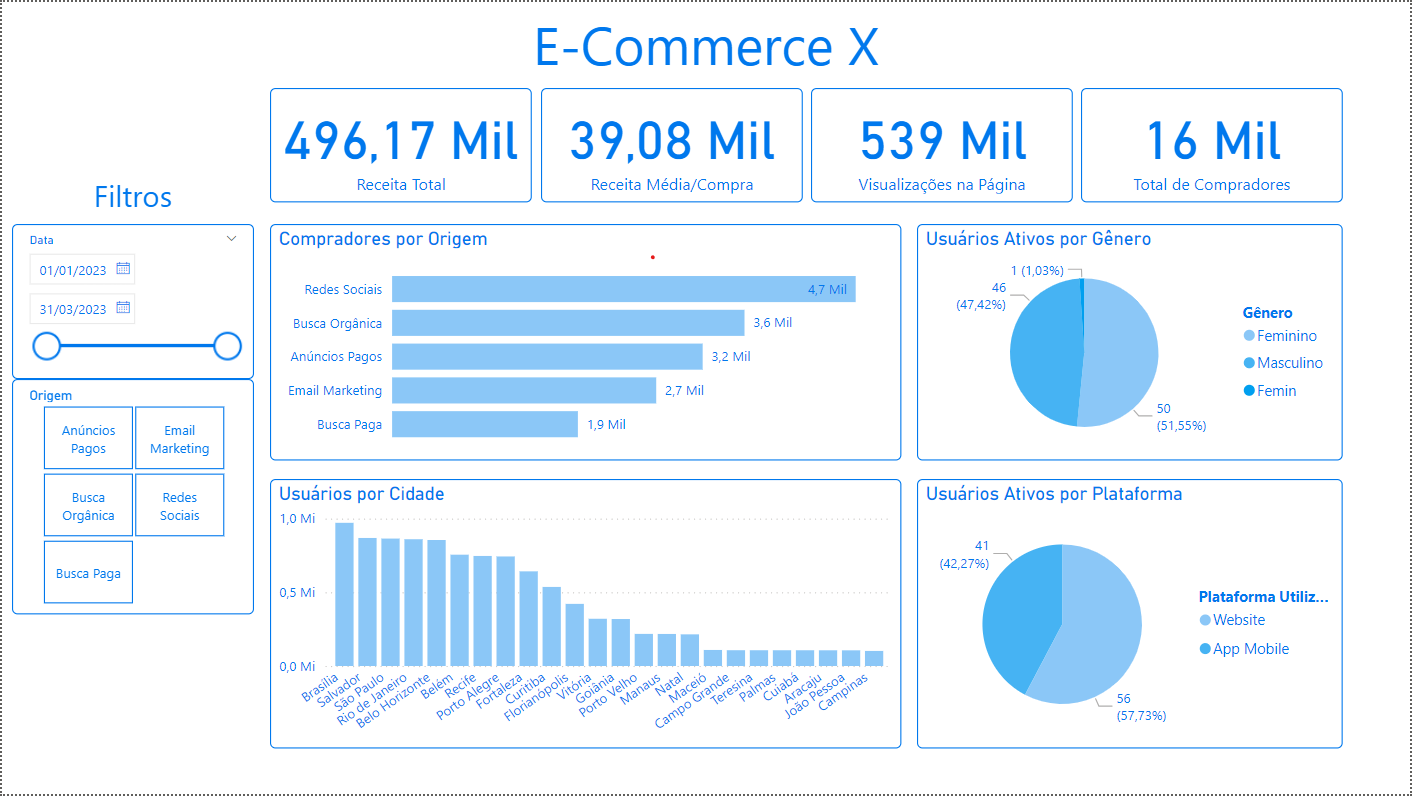

Layout of this report page (visuals, bound fields, positions):
{"tool":"powerbi","page":{"name":"Ecommerce X","canvas":[1280,720],"ordinal":0},"visuals":[{"type":"card","fields":{"Values":["Sum(Planilha1.Receita Total)"]},"box":[244,78,238,104],"z":0},{"type":"card","fields":{"Values":["Sum(Planilha1.Receita Média por Compra)"]},"box":[489.7,78,238,104],"z":1000},{"type":"card","fields":{"Values":["Sum(Planilha1.Visualizações na Página)"]},"box":[735.3,78,238,104],"z":2000},{"type":"pieChart","title":"Usuários Ativos por Gênero","fields":{"Y":["CountNonNull(Planilha1.Usuários Ativos)"],"Category":["Planilha1.Gênero"]},"box":[832,202,387,215],"z":3000},{"type":"pieChart","title":"Usuários Ativos por Plataforma","fields":{"Y":["CountNonNull(Planilha1.Usuários Ativos)"],"Category":["Planilha1.Plataforma Utilizada"]},"box":[832,434,387,245],"z":4000},{"type":"barChart","title":"Compradores por Origem","fields":{"Y":["Sum(Planilha1.Número de Compradores)"],"Category":["Planilha1.Origem"]},"box":[244,202,574,215],"z":5000},{"type":"columnChart","title":"Usuários por Cidade","fields":{"Category":["Planilha1.Cidade"],"Y":["Sum(Planilha1.Usuários Total)"]},"box":[244,434,574,245],"z":6000},{"type":"slicer","fields":{"Values":["Planilha1.Data"]},"box":[9,202,220,141],"z":7000},{"type":"textbox","box":[0,0,1280,78],"z":7001},{"type":"textbox","box":[9,153,220,49],"z":7002},{"type":"slicer","fields":{"Values":["Planilha1.Origem"]},"box":[9,343,220,214],"z":7003},{"type":"card","fields":{"Values":["Sum(Planilha1.Número de Compradores)"]},"box":[981,78,238,104],"z":7004}]}

Visuals, with their boxes in screenshot pixels (x1, y1, x2, y2), scaled from the page's 1280x720 canvas onto the 1413x796 screenshot:
card - Sum(Planilha1.Receita Total): bbox(269, 86, 532, 201)
card - Sum(Planilha1.Receita Média por Compra): bbox(541, 86, 803, 201)
card - Sum(Planilha1.Visualizações na Página): bbox(812, 86, 1074, 201)
"Usuários Ativos por Gênero" pieChart: bbox(918, 223, 1346, 461)
"Usuários Ativos por Plataforma" pieChart: bbox(918, 480, 1346, 751)
"Compradores por Origem" barChart: bbox(269, 223, 903, 461)
"Usuários por Cidade" columnChart: bbox(269, 480, 903, 751)
slicer - Planilha1.Data: bbox(10, 223, 253, 379)
textbox: bbox(0, 0, 1412, 86)
textbox: bbox(10, 169, 253, 223)
slicer - Planilha1.Origem: bbox(10, 379, 253, 616)
card - Sum(Planilha1.Número de Compradores): bbox(1083, 86, 1346, 201)
